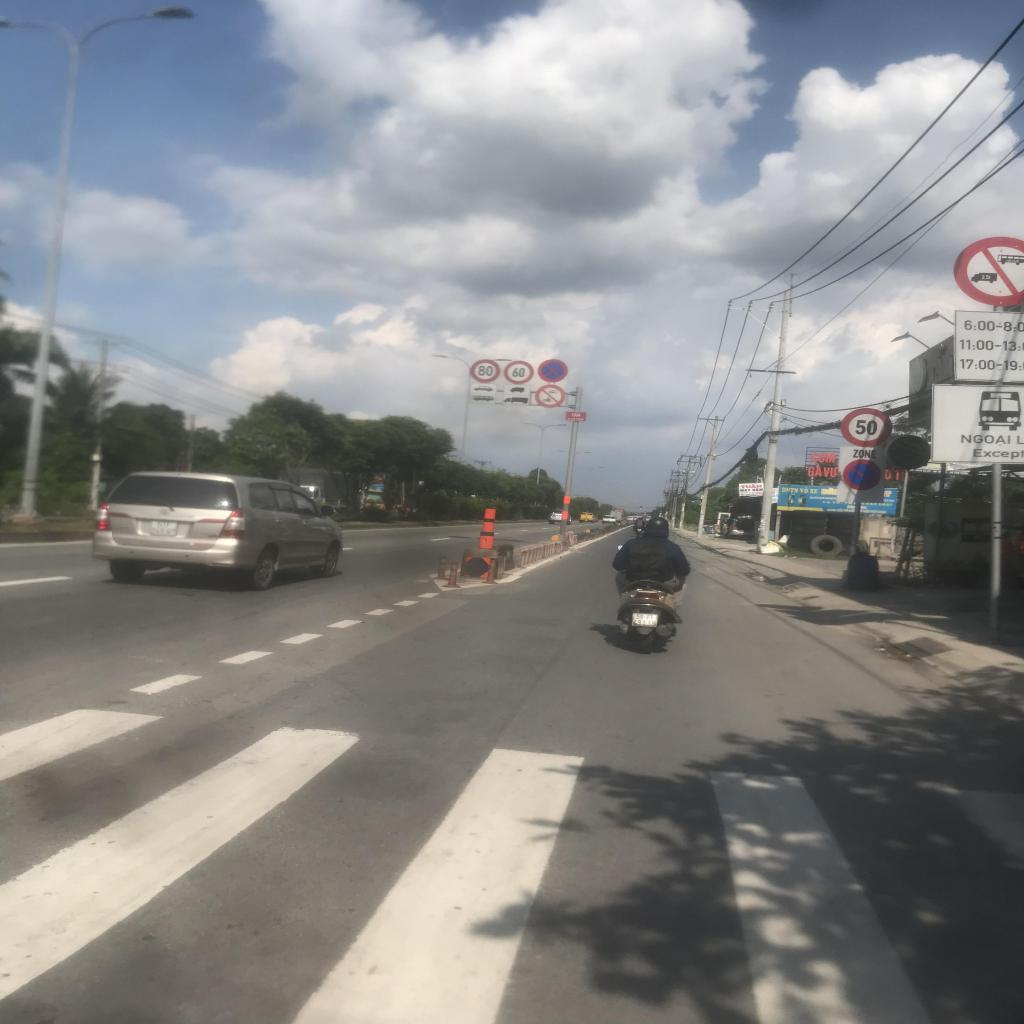cam_dung_xe_va_do_xe: (842, 458, 882, 490), (538, 359, 568, 383)
cam_o_to_tai_va_xe_khach: (954, 236, 1023, 306)
cam_xe_2_banh_va_xe_3_banh_co_dong_co: (535, 385, 565, 407)
khac: (932, 385, 1023, 463), (956, 311, 1023, 381), (502, 395, 530, 405), (503, 385, 531, 395), (470, 393, 494, 404), (470, 383, 496, 393)
toc_do_toi_da_50: (841, 408, 893, 447)
toc_do_toi_da_60: (504, 361, 533, 383)
toc_do_toi_da_80: (471, 359, 499, 383)
